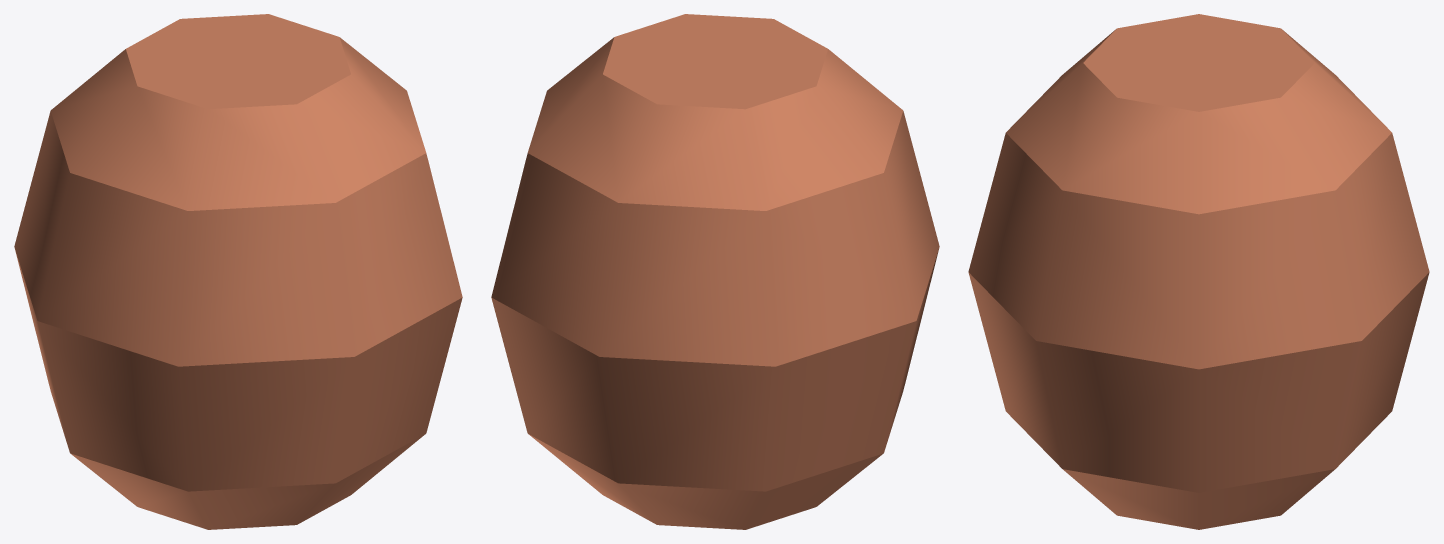
Rendered from coconut.GLB.
The picture shows the model from 3 angles, left to right: view 1: azimuth 30°, elevation 25°; view 2: azimuth 150°, elevation 25°; view 3: azimuth 270°, elevation 25°; orthographic projection.
Parts seen in each view (by area): view 1: coconut; view 2: coconut; view 3: coconut.
Boxes of the visible parts, bbox=[...] form: coconut: bbox=[14, 14, 462, 529]; coconut: bbox=[491, 14, 939, 529]; coconut: bbox=[968, 14, 1429, 529].
Size of the model in its own units: 0.2484 by 0.2484 by 0.2484.
